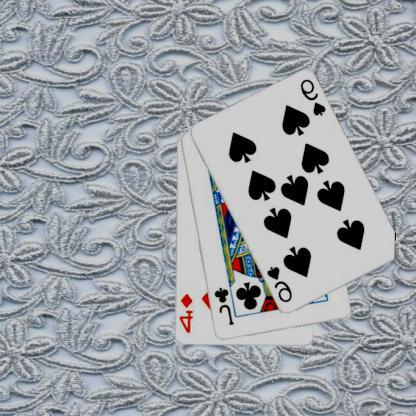4D: (178, 291, 196, 335)
9S: (299, 77, 329, 118), (266, 264, 295, 304)
JC: (213, 285, 237, 327)
